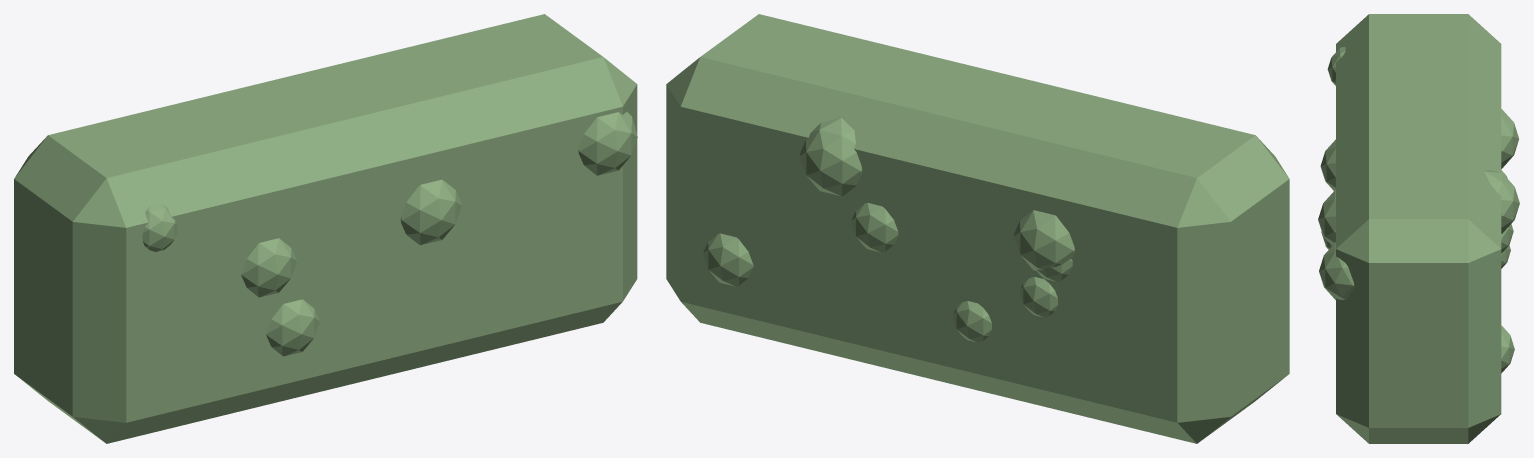
File: hedge.glb
The picture shows the model from 3 angles, left to right: view 1: azimuth 30°, elevation 25°; view 2: azimuth 150°, elevation 25°; view 3: azimuth 270°, elevation 25°; orthographic projection. The views are drawn at different scales.
Parts seen in each view (by area): view 1: hedge_hedge; view 2: hedge_hedge; view 3: hedge_hedge.
Part boxes in pixels (<box>): hedge_hedge: <box>14,14,637,443</box>; hedge_hedge: <box>666,14,1289,443</box>; hedge_hedge: <box>1318,14,1519,443</box>.
Size of the model in its own units: 2 by 0.9 by 0.7324.
